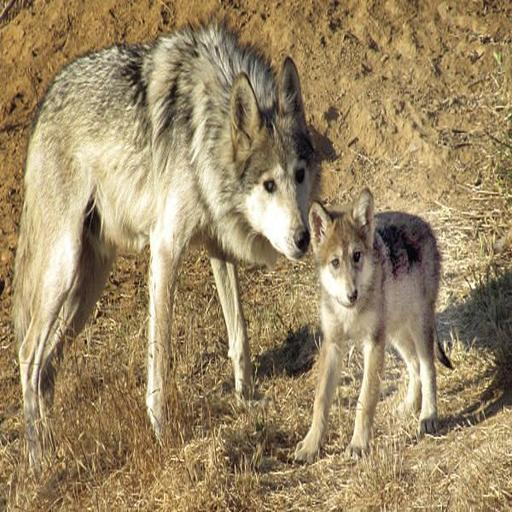Wolf: (9, 21, 321, 466), (288, 186, 463, 462)
